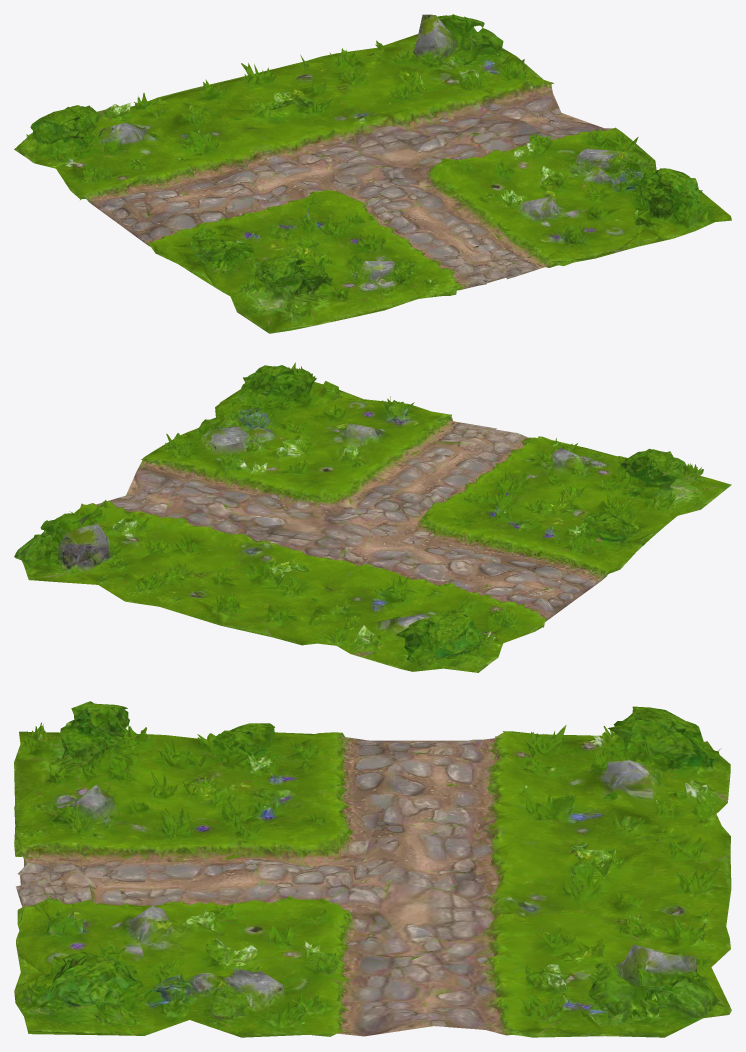
The model's file is junction.glb.
The picture shows the model from 3 angles, top to bottom: view 1: azimuth 30°, elevation 25°; view 2: azimuth 150°, elevation 25°; view 3: azimuth 270°, elevation 25°; orthographic projection. The views are drawn at different scales.
Bounding box in the file's own units: 1.89 × 0.1831 × 1.9.
Materials: 1 (1 with a texture image).
